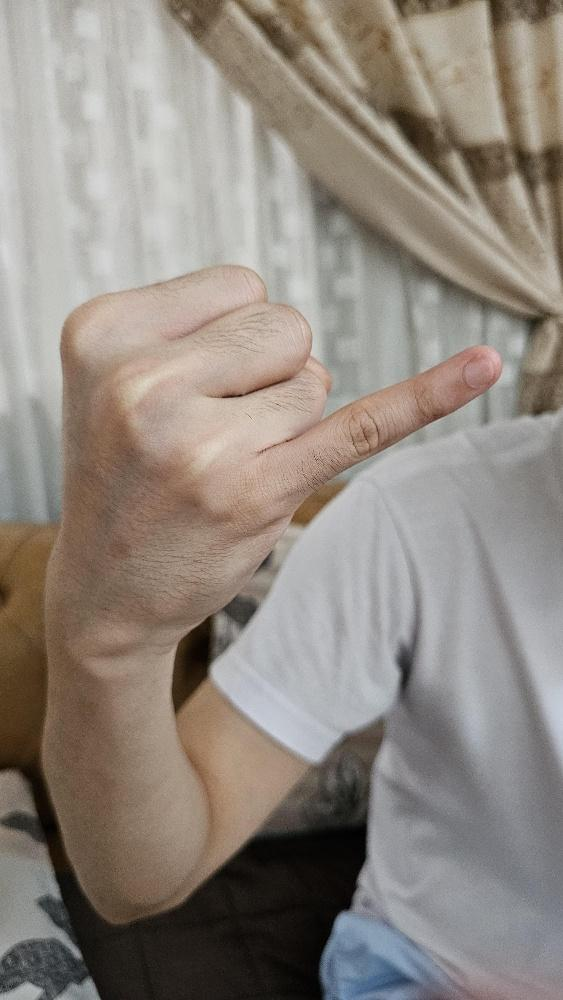j: (48, 260, 505, 650)
